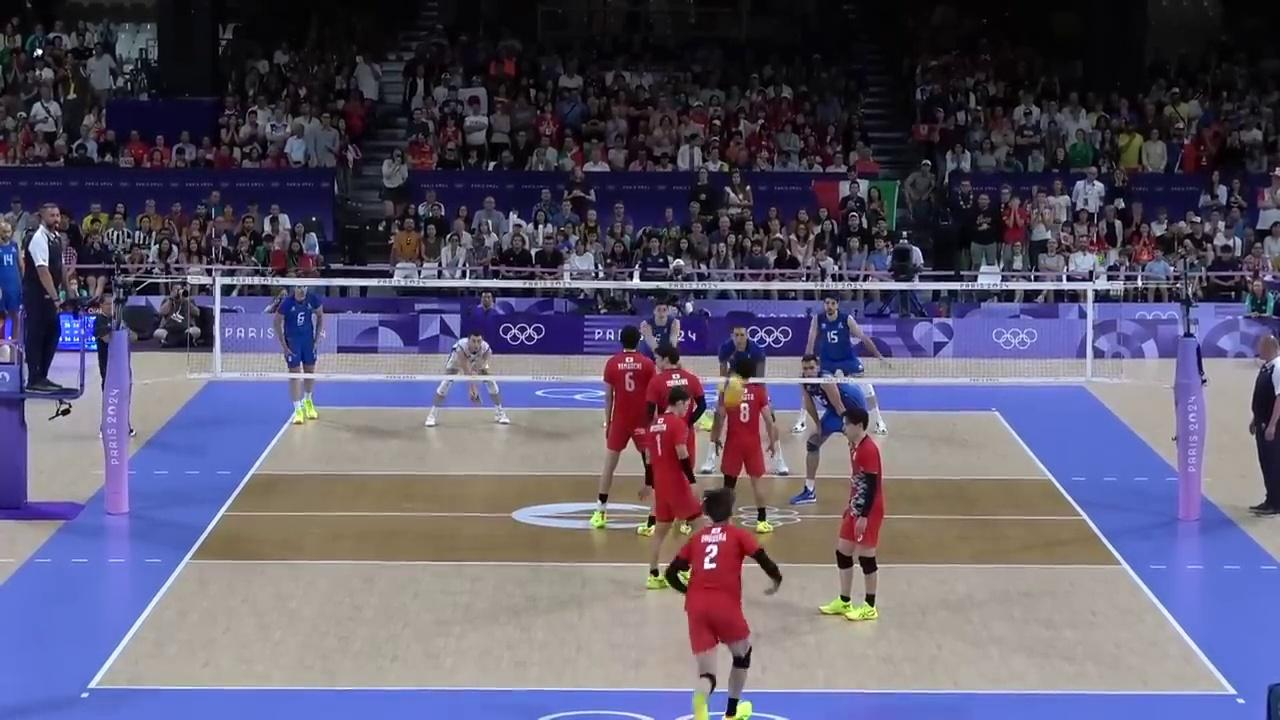ball: (719, 375, 742, 408)
